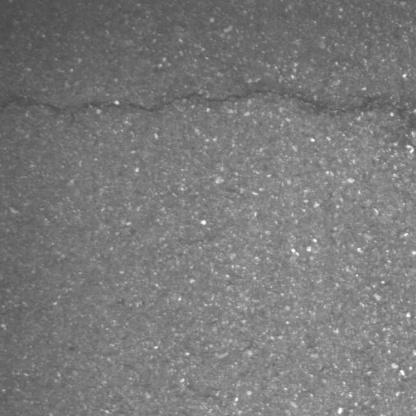Cracks: (0, 87, 409, 123)
